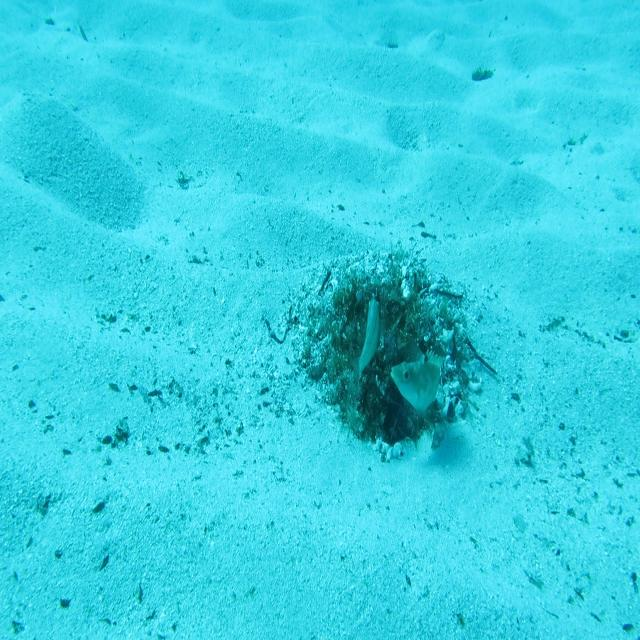BEND: (388, 338, 446, 414)
core_nest: (358, 288, 393, 340)
female: (353, 294, 382, 394)
nest: (279, 229, 487, 472)
vegetation: (470, 65, 496, 85)
